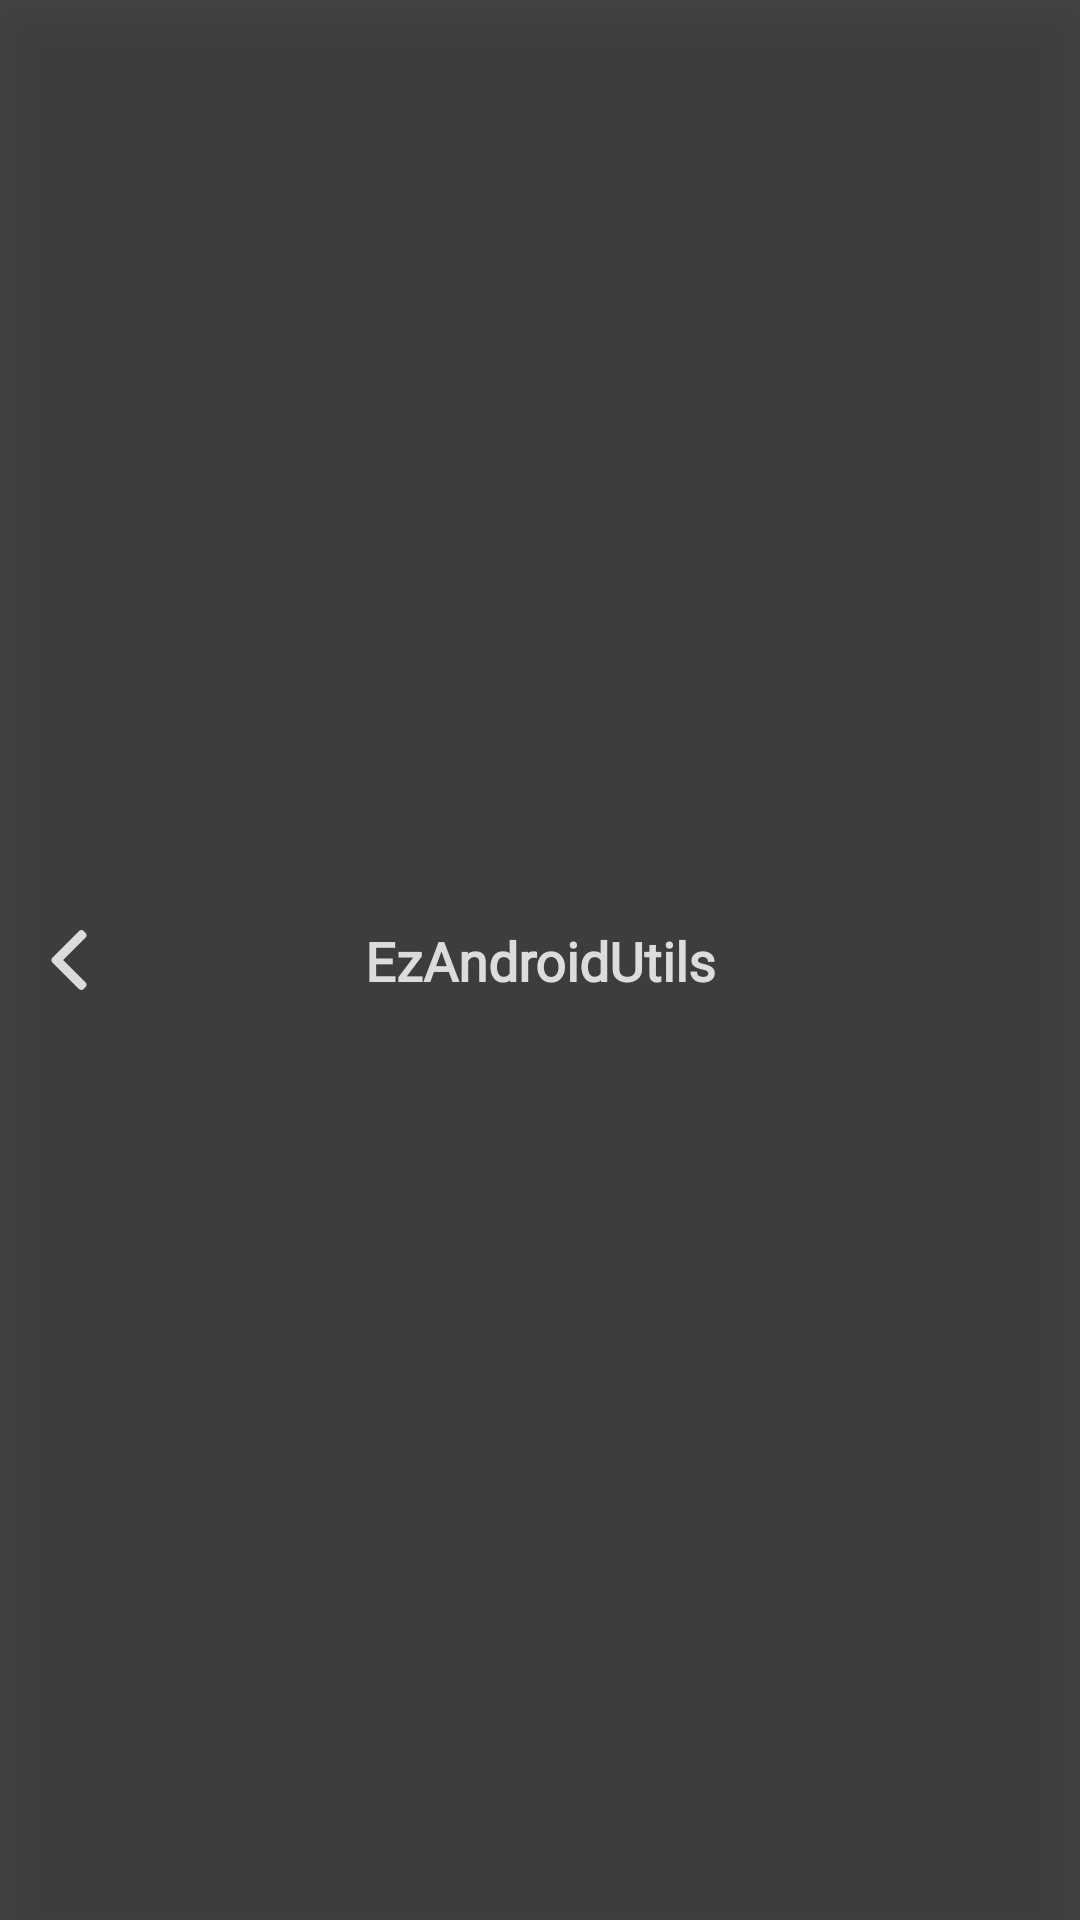

Locate icon controls on the screen. Image size 1080px x 1920px, boxes as (left=x1, top=y1, right=x2, bottom=y2).
left arrow: (left=51, top=930, right=87, bottom=990)
